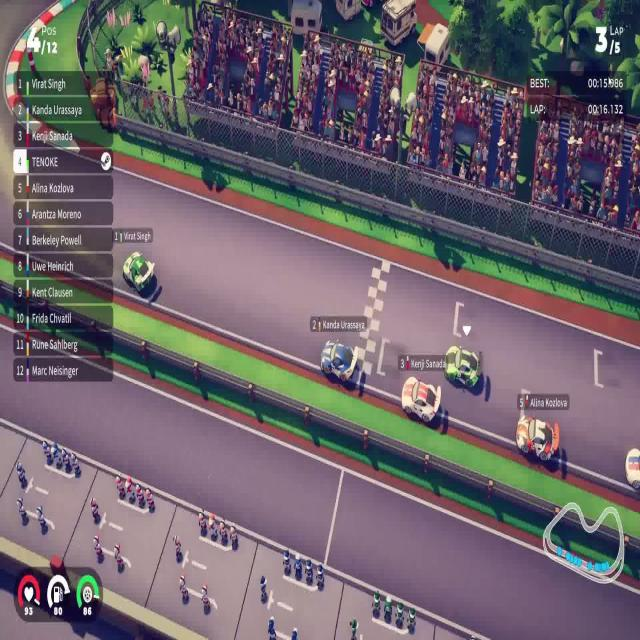car: (515, 414, 560, 462), (400, 374, 442, 424), (320, 338, 358, 384), (443, 344, 481, 390), (122, 250, 155, 295)
